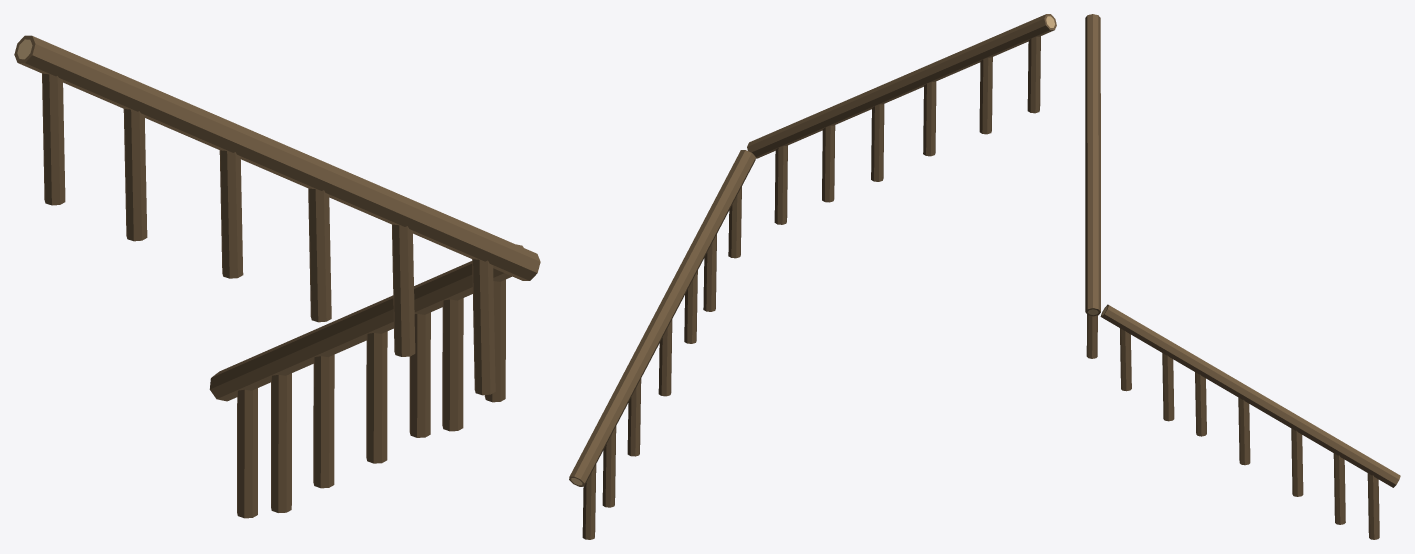
The model's file is rpgpp_ag_wall_platform_stairs_01b_4m_handrail_01.fbx.
3 renders of one model, left to right at view 1: azimuth 30°, elevation 25°; view 2: azimuth 150°, elevation 25°; view 3: azimuth 270°, elevation 25°, orthographic. The views are drawn at different scales.
Parts seen in each view (by area): view 1: rpgpp_ag_wall_platform_stairs_01b_4m_handrail_01; view 2: rpgpp_ag_wall_platform_stairs_01b_4m_handrail_01; view 3: rpgpp_ag_wall_platform_stairs_01b_4m_handrail_01.
Boxes of the visible parts, left/top/right/bottom form: rpgpp_ag_wall_platform_stairs_01b_4m_handrail_01: left=14, top=35, right=540, bottom=518; rpgpp_ag_wall_platform_stairs_01b_4m_handrail_01: left=569, top=14, right=1056, bottom=539; rpgpp_ag_wall_platform_stairs_01b_4m_handrail_01: left=1085, top=14, right=1400, bottom=539.
Size of the model in its own units: 3.17 by 4.66 by 3.31.
